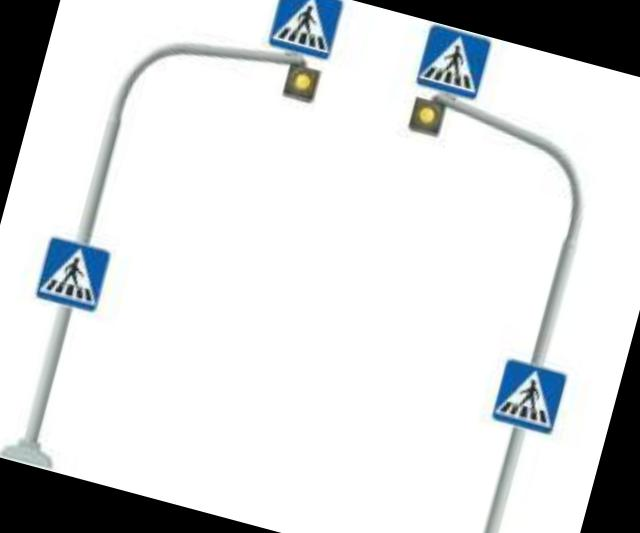crosswalk-sign: (33, 233, 114, 314), (415, 21, 495, 100), (491, 356, 570, 436), (266, 1, 346, 60)
